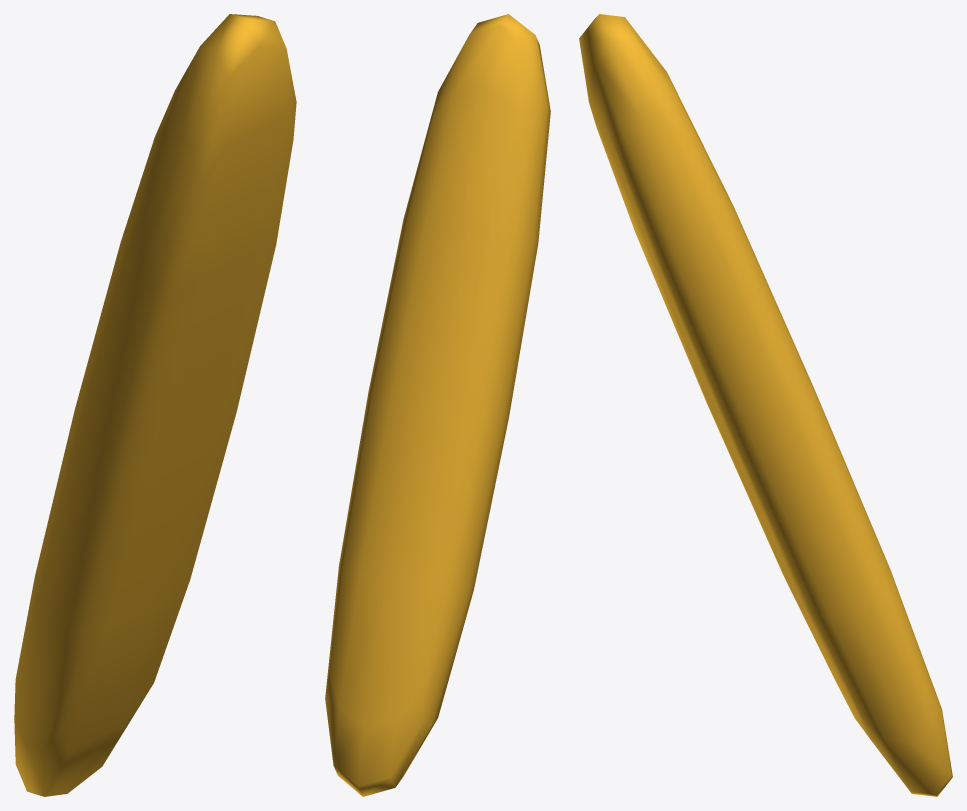
File: nervoso-nucleus-of-hypoglossal-nerve-r.glb
The picture shows the model from 3 angles, left to right: view 1: azimuth 30°, elevation 25°; view 2: azimuth 150°, elevation 25°; view 3: azimuth 270°, elevation 25°; orthographic projection. The views are drawn at different scales.
Visible parts, largest first — view 1: Nucleus of hypoglossal nerve.r; view 2: Nucleus of hypoglossal nerve.r; view 3: Nucleus of hypoglossal nerve.r.
Boxes of the visible parts, x1,y1,x2,y2 form: Nucleus of hypoglossal nerve.r: (14, 14, 296, 796); Nucleus of hypoglossal nerve.r: (325, 14, 550, 796); Nucleus of hypoglossal nerve.r: (579, 14, 952, 796).
Size of the model in its own units: 0.00131 by 0.00735 by 0.00318.
